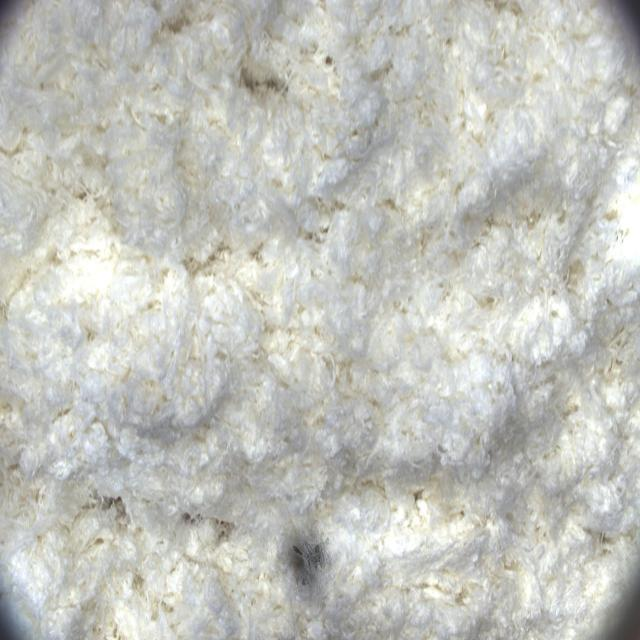dust: (241, 494, 358, 611)
